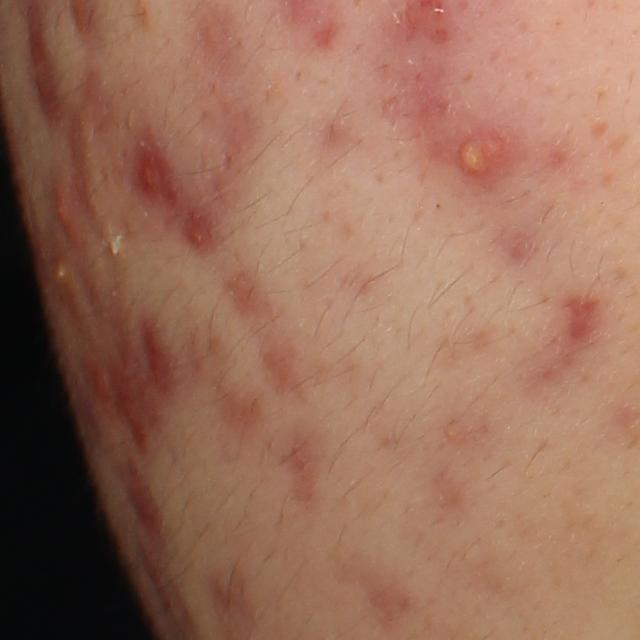papule: (133, 129, 187, 219), (139, 315, 182, 398), (50, 172, 93, 246)
pustule: (454, 124, 527, 185), (49, 254, 75, 291)
